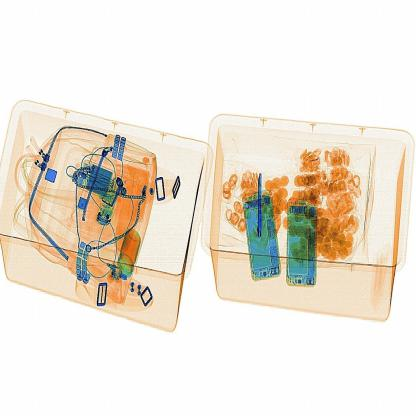pliers: (251, 163, 279, 235)
